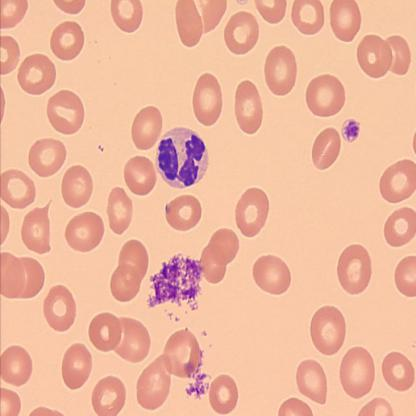Segmented neutrophil: (154, 124, 210, 193)
